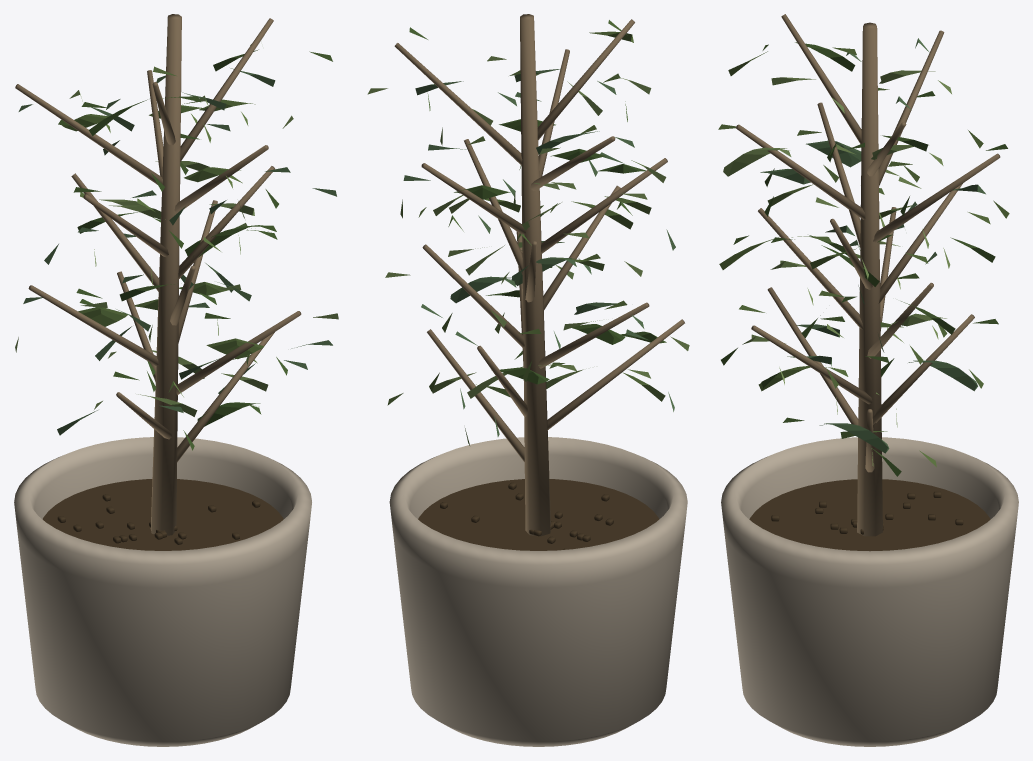
Rendered from ficus-v1.glb.
The picture shows the model from 3 angles, left to right: view 1: azimuth 30°, elevation 25°; view 2: azimuth 150°, elevation 25°; view 3: azimuth 270°, elevation 25°; orthographic projection.
Visible parts, largest first — view 1: Hollow tapered planter; view 2: Hollow tapered planter; view 3: Hollow tapered planter.
Part boxes in pixels (x1,y1,x2,y2): Hollow tapered planter: (14,14,338,746); Hollow tapered planter: (367,14,689,746); Hollow tapered planter: (718,14,1018,746).
Bounding box in the file's own units: 0.6489 × 1.41 × 0.5657.
